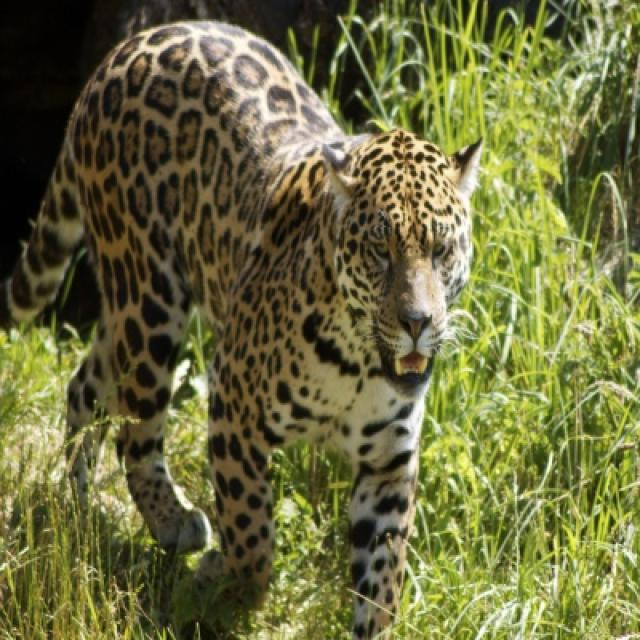Jaguar: (0, 21, 483, 638)
